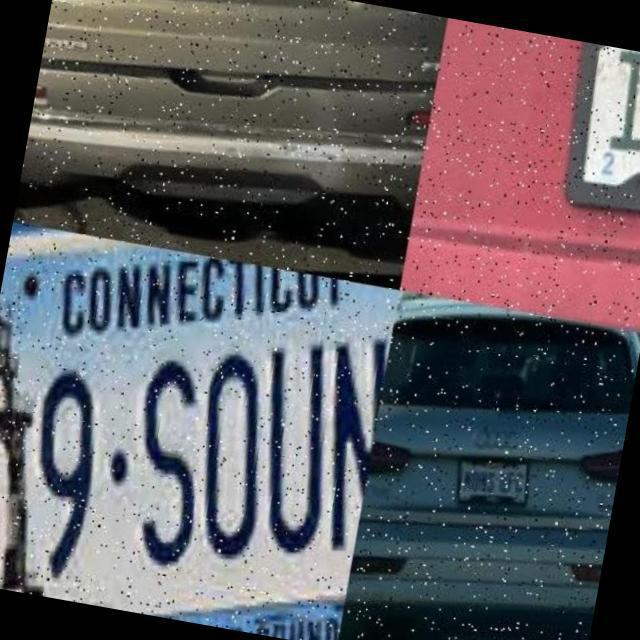License Plate: (1, 218, 400, 640), (448, 450, 532, 514)
